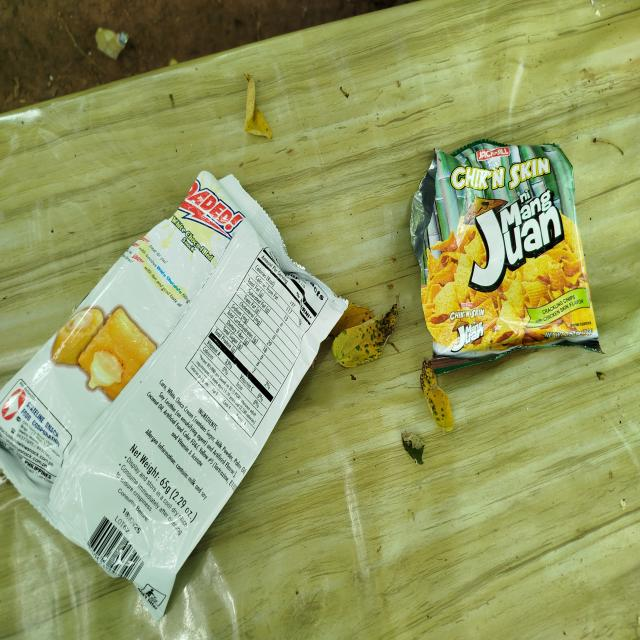residual: (2, 160, 354, 627), (406, 128, 609, 382)
